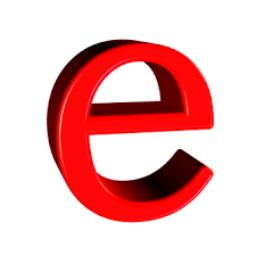e: (48, 34, 216, 224)
